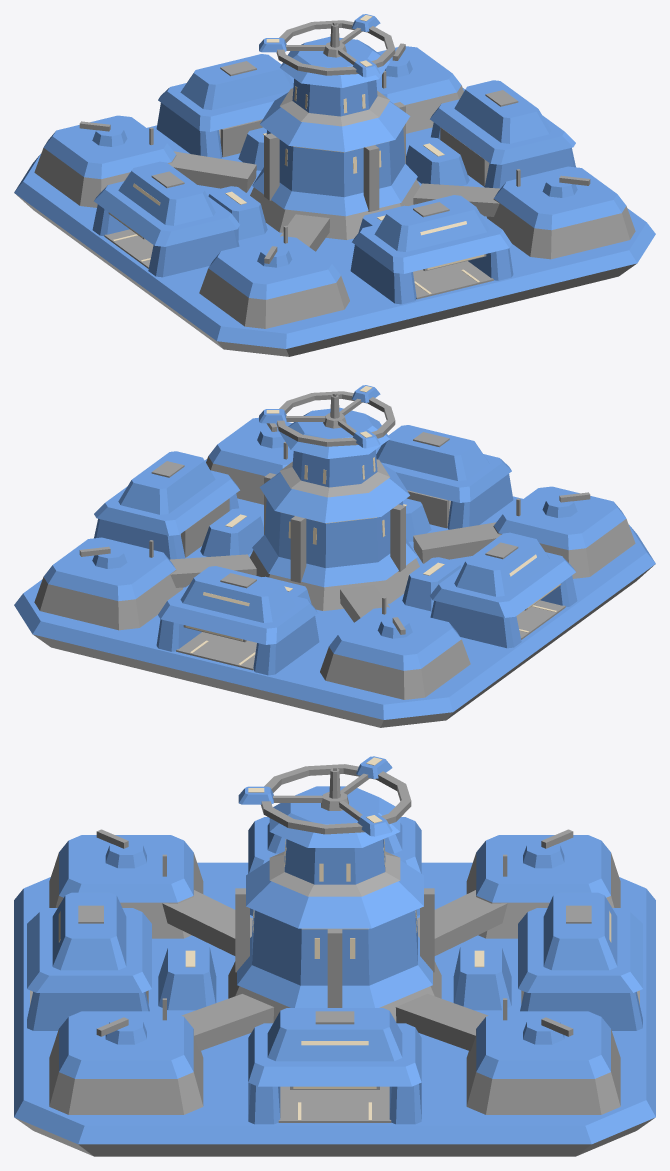
File: CommandStation_L3.glb
3 renders of one model, top to bottom at view 1: azimuth 30°, elevation 25°; view 2: azimuth 150°, elevation 25°; view 3: azimuth 270°, elevation 25°, orthographic. The views are drawn at different scales.
Visible parts, largest first — view 1: Citadel deck, Bastion armor cap -1 -1, Bastion armor cap 1 -1, Command keep, Bastion armor cap -1 1, Undercut armor apron, Bastion armored footing -1 -1, Bastion armored footing 1 -1, Command gallery roof, Logistics gallery 0, Logistics gallery 2, Dock armored roof 0 (+35 smaller); view 2: Citadel deck, Bastion armor cap -1 1, Bastion armor cap 1 1, Command keep, Bastion armor cap -1 -1, Undercut armor apron, Bastion armored footing -1 1, Bastion armored footing 1 1, Command gallery roof, Logistics gallery 2, Logistics gallery 0, Dock armored roof 2 (+35 smaller); view 3: Citadel deck, Command keep, Bastion armor cap 1 -1, Bastion armor cap 1 1, Undercut armor apron, Bastion armor cap -1 -1, Bastion armor cap -1 1, Command gallery roof, Bastion armored footing 1 -1, Bastion armored footing 1 1, Logistics gallery 1, Dock armored roof 1 (+32 smaller).
Part boxes in pixels (x1=…): Citadel deck: x1=14, y1=88, x2=655, y2=348; Bastion armor cap -1 -1: x1=208, y1=236, x2=340, y2=299; Bastion armor cap 1 -1: x1=494, y1=166, x2=626, y2=230; Command keep: x1=266, y1=128, x2=405, y2=197; Bastion armor cap -1 1: x1=43, y1=115, x2=175, y2=179; Undercut armor apron: x1=14, y1=193, x2=636, y2=356; Bastion armored footing -1 -1: x1=199, y1=268, x2=349, y2=328; Bastion armored footing 1 -1: x1=487, y1=199, x2=635, y2=259; Command gallery roof: x1=260, y1=92, x2=410, y2=152; Logistics gallery 0: x1=374, y1=195, x2=489, y2=251; Logistics gallery 2: x1=180, y1=54, x2=293, y2=109; Dock armored roof 0: x1=352, y1=213, x2=511, y2=273; Citadel deck: x1=14, y1=459, x2=655, y2=719; Bastion armor cap -1 1: x1=329, y1=607, x2=461, y2=670; Bastion armor cap 1 1: x1=43, y1=537, x2=175, y2=601; Command keep: x1=264, y1=499, x2=403, y2=568; Bastion armor cap -1 -1: x1=494, y1=486, x2=626, y2=550; Undercut armor apron: x1=33, y1=564, x2=655, y2=727; Bastion armored footing -1 1: x1=320, y1=639, x2=470, y2=699; Bastion armored footing 1 1: x1=34, y1=570, x2=182, y2=630; Command gallery roof: x1=259, y1=463, x2=409, y2=523; Logistics gallery 2: x1=180, y1=566, x2=295, y2=622; Logistics gallery 0: x1=376, y1=425, x2=489, y2=480; Dock armored roof 2: x1=158, y1=584, x2=317, y2=644; Citadel deck: x1=14, y1=862, x2=655, y2=1144; Command keep: x1=252, y1=910, x2=417, y2=985; Bastion armor cap 1 -1: x1=59, y1=1011, x2=193, y2=1078; Bastion armor cap 1 1: x1=476, y1=1011, x2=610, y2=1078; Undercut armor apron: x1=15, y1=1118, x2=654, y2=1156; Bastion armor cap -1 -1: x1=59, y1=835, x2=193, y2=902; Bastion armor cap -1 1: x1=476, y1=835, x2=610, y2=902; Command gallery roof: x1=246, y1=860, x2=423, y2=928; Bastion armored footing 1 -1: x1=49, y1=1029, x2=203, y2=1114; Bastion armored footing 1 1: x1=466, y1=1029, x2=620, y2=1114; Logistics gallery 1: x1=267, y1=1008, x2=402, y2=1061; Dock armored roof 1: x1=248, y1=1023, x2=421, y2=1086.
Size of the model in its own units: 200 by 109 by 200.
